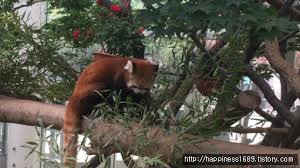redPanda: (50, 43, 173, 163)
